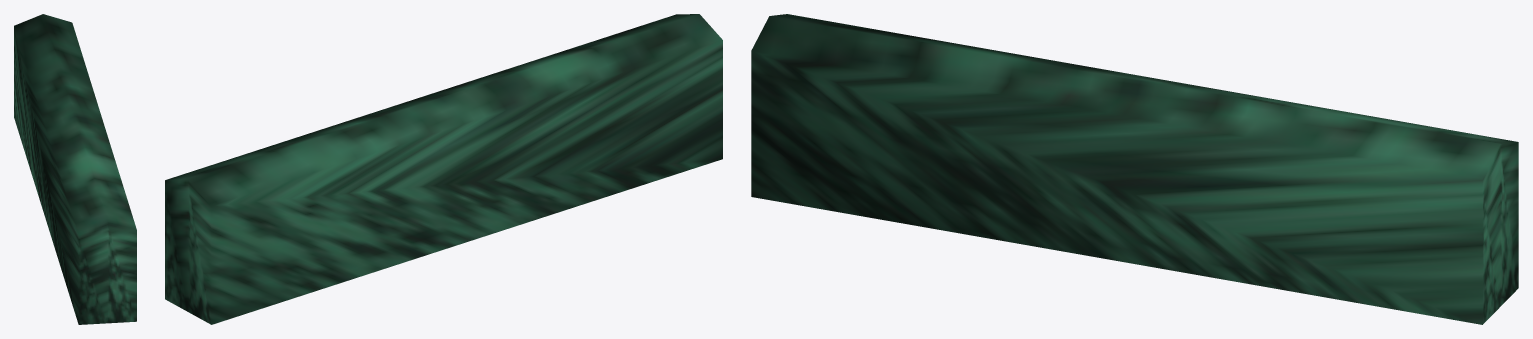
Rendered from Ring4W5.fbx.
The picture shows the model from 3 angles, left to right: view 1: azimuth 30°, elevation 25°; view 2: azimuth 150°, elevation 25°; view 3: azimuth 270°, elevation 25°; orthographic projection. The views are drawn at different scales.
Visible parts, largest first — view 1: Ring4W5; view 2: Ring4W5; view 3: Ring4W5.
Part boxes in pixels (x1,y1,x2,y2): Ring4W5: (14,14,136,324); Ring4W5: (165,14,722,324); Ring4W5: (751,14,1518,324).
Size of the model in its own units: 869 by 400 by 1711.
